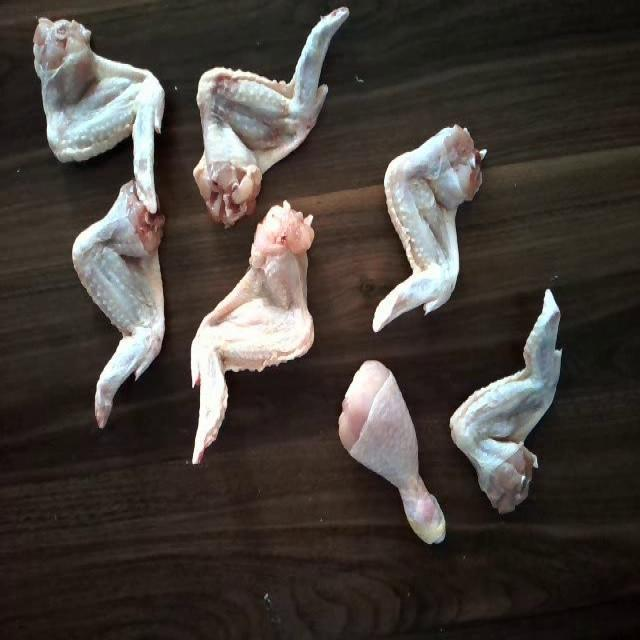leg: (334, 352, 448, 556)
wing: (187, 13, 354, 232), (186, 197, 313, 466), (28, 4, 166, 214), (452, 288, 571, 520), (369, 113, 491, 339), (62, 180, 174, 422)
